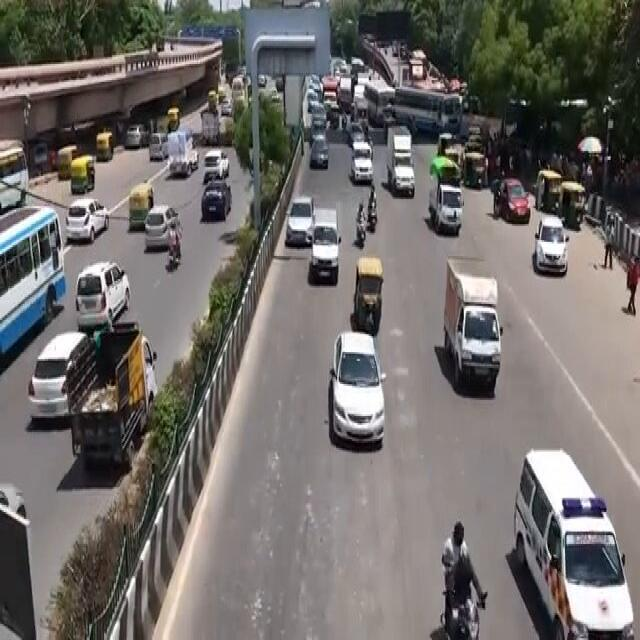three_wheeler: (344, 252, 388, 340)
